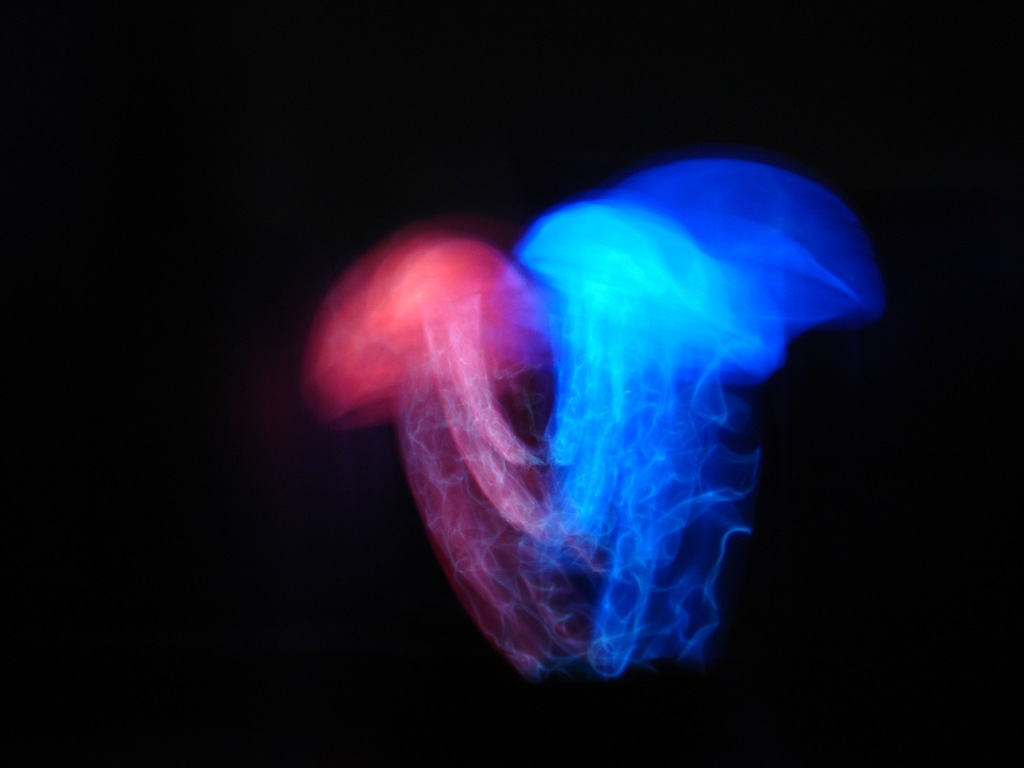Jellyfish: (478, 132, 903, 632), (300, 226, 622, 676)
